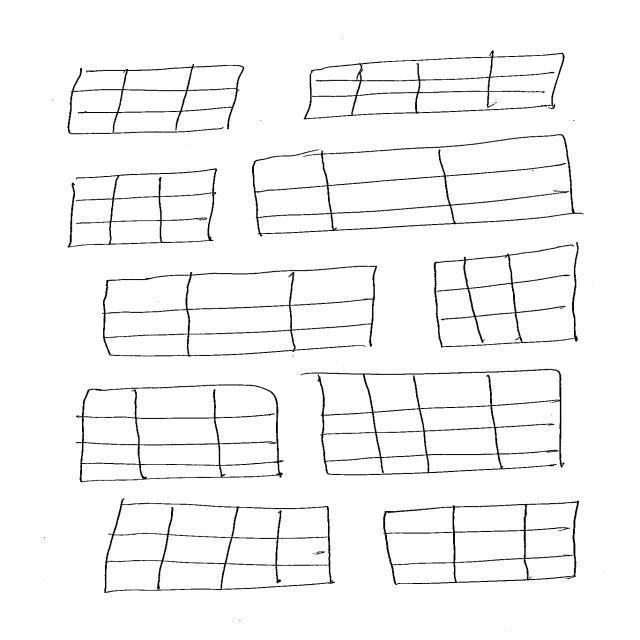table: (251, 135, 578, 236), (311, 370, 566, 477), (101, 265, 379, 358), (103, 502, 334, 594), (79, 385, 284, 485), (303, 54, 567, 121), (383, 501, 582, 586), (431, 245, 582, 350), (66, 64, 246, 137), (65, 169, 220, 249)
